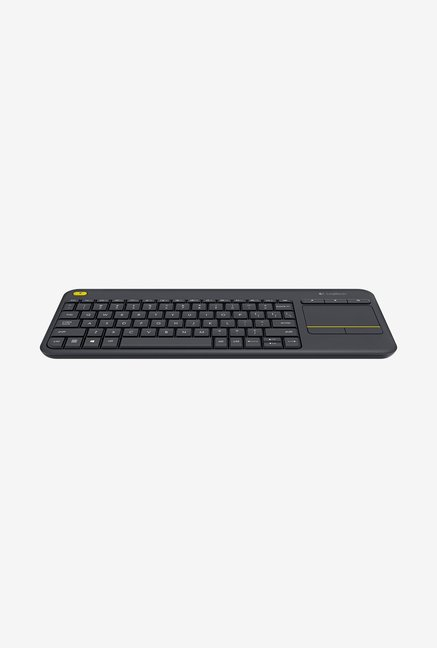logitech-keyboard-k400: (40, 286, 396, 373)
